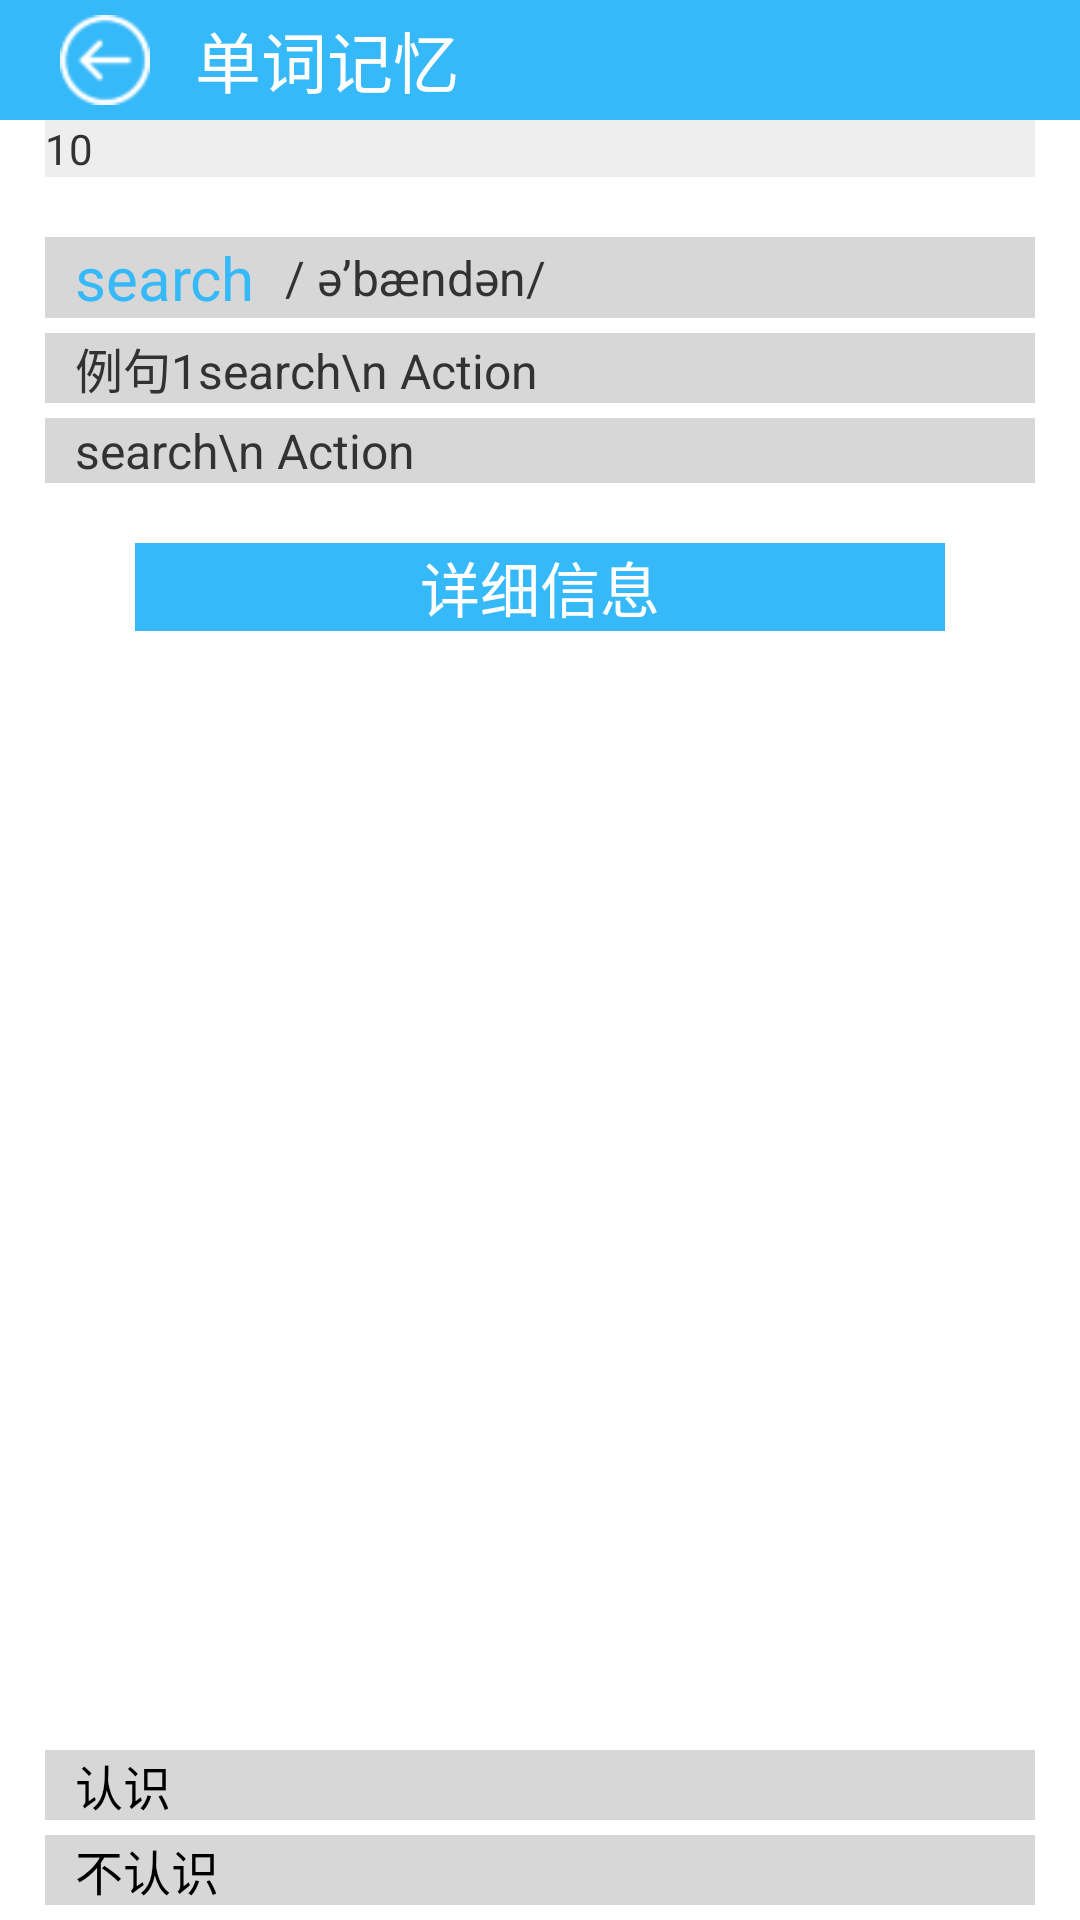

Icon click points for this 1080px x 1920px phone screenshot, format point (x, y):
login back: point (105, 60)
